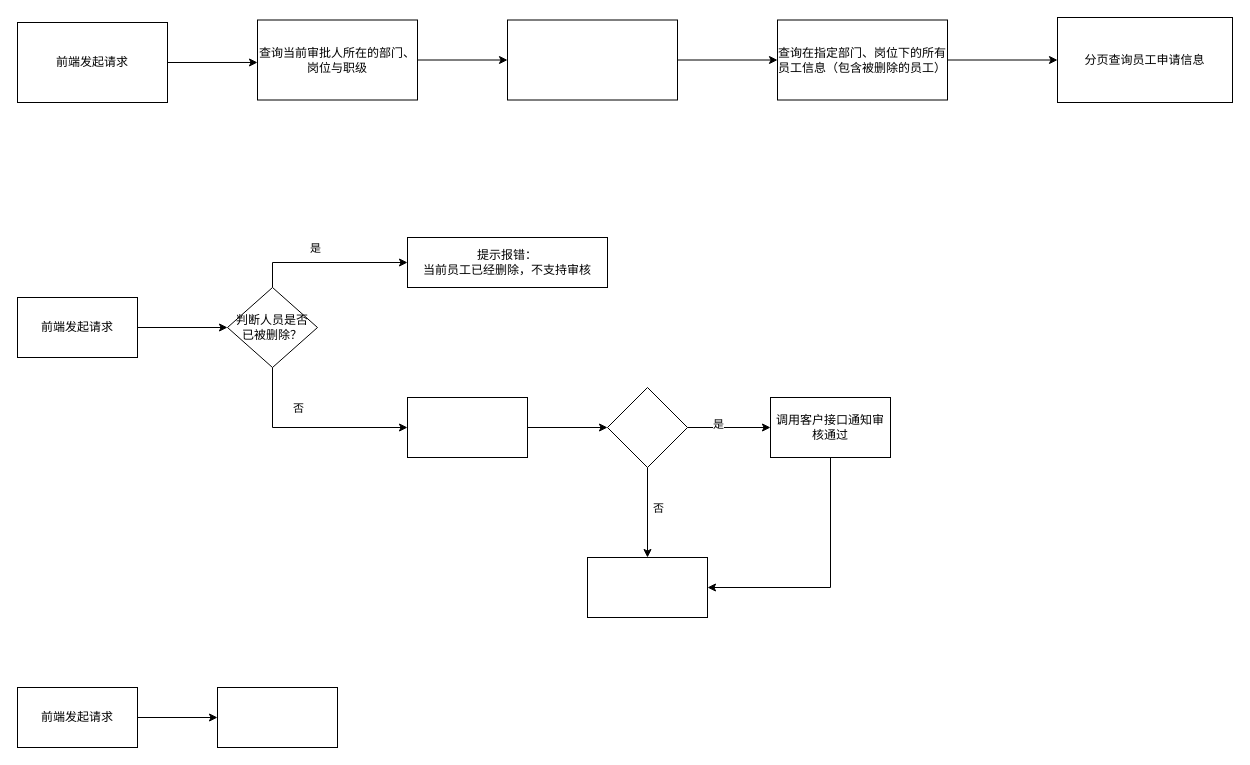
Some shapes in this 1250 by 765 pixel diagram are drawn without their labels. Each missing label, with the box of its shape:
更新是否 通过？: (606, 386, 688, 468)
更新表状态: (406, 396, 528, 458)
查询当前部门、职级下配置的岗位、职级，且职级小于等于当前职级: (506, 19, 678, 100)
根据ID返回申请人信息: (216, 686, 338, 748)
调用钉钉接口清除代办: (586, 556, 708, 618)
